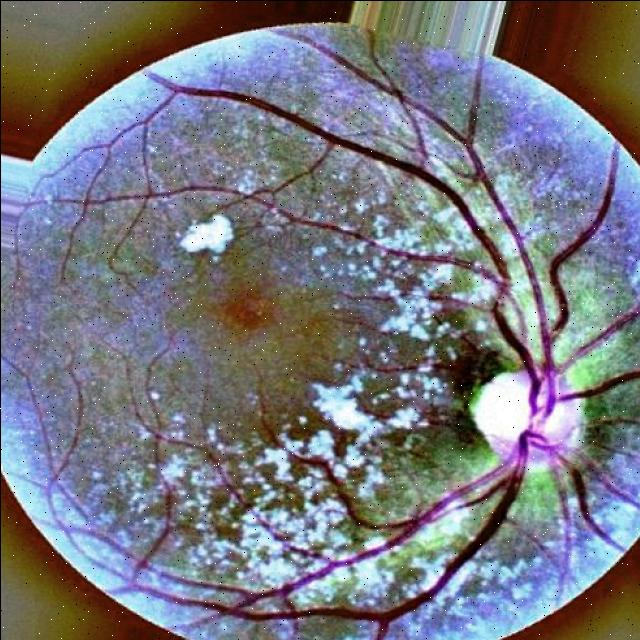Macula: (203, 274, 285, 341)
Nerves: (155, 22, 621, 406), (183, 421, 525, 625)
Optic Disk: (457, 354, 606, 479)
